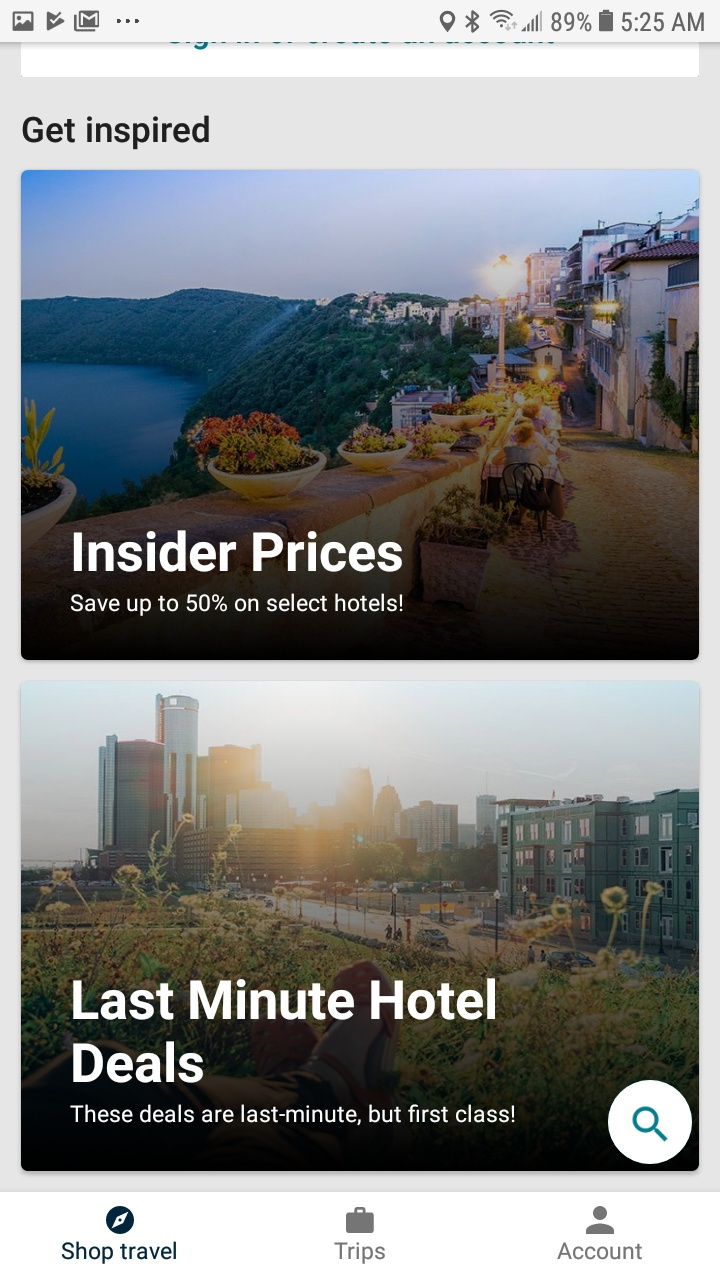Icon: (607, 1079, 692, 1164), (106, 1205, 135, 1234), (586, 1205, 615, 1234), (346, 1206, 375, 1233)
Image: (21, 170, 699, 661), (21, 680, 699, 1171)
Text: (73, 978, 496, 1084), (74, 531, 403, 573), (70, 1103, 515, 1125), (72, 593, 404, 617), (23, 116, 211, 151), (62, 1240, 177, 1264), (556, 1242, 642, 1260), (335, 1241, 386, 1264)
UpperTaskBar: (1, 1, 720, 43)
